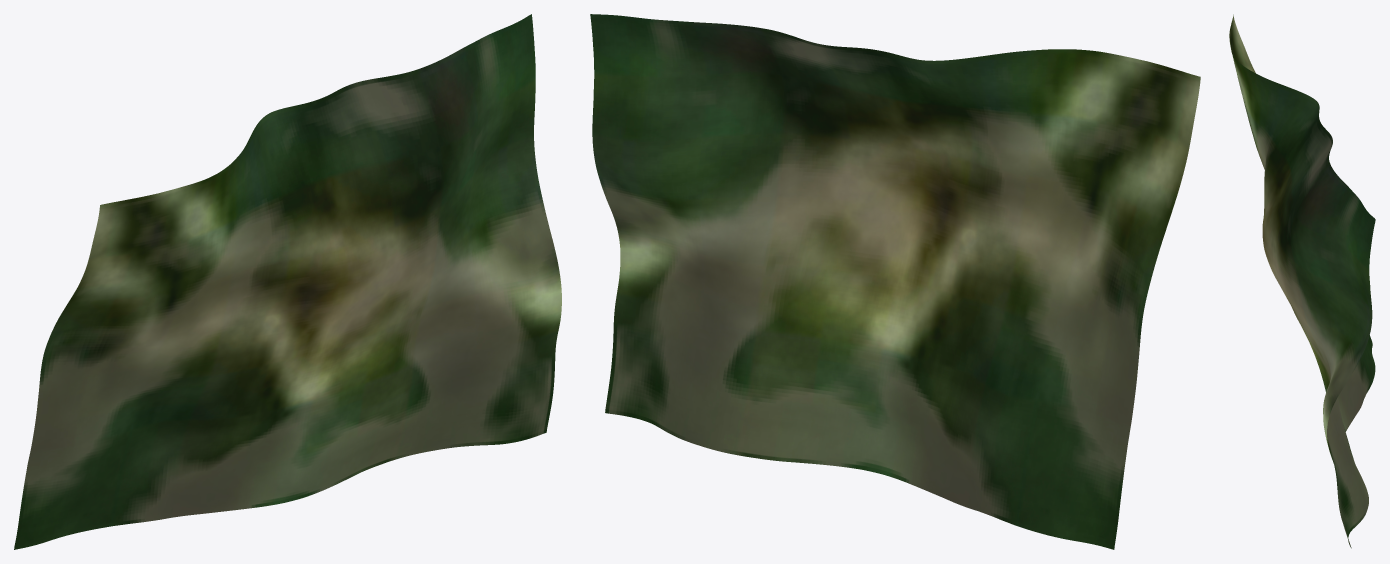
Rendered from qingyuan-hillside.glb.
The picture shows the model from 3 angles, left to right: view 1: azimuth 30°, elevation 25°; view 2: azimuth 150°, elevation 25°; view 3: azimuth 270°, elevation 25°; orthographic projection. The views are drawn at different scales.
Visible parts, largest first — view 1: RealTerrain; view 2: RealTerrain; view 3: RealTerrain.
Boxes of the visible parts, x1=… form: RealTerrain: x1=14, y1=14, x2=561, y2=549; RealTerrain: x1=590, y1=14, x2=1200, y2=549; RealTerrain: x1=1229, y1=14, x2=1375, y2=548.
Bounding box in the file's own units: 320 × 240 × 96.32.
1 material, 1 textured.
